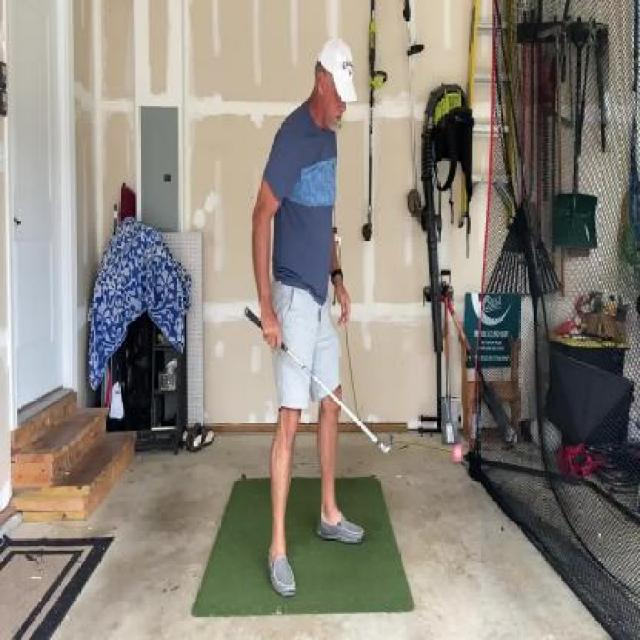club head: (376, 433, 395, 455)
